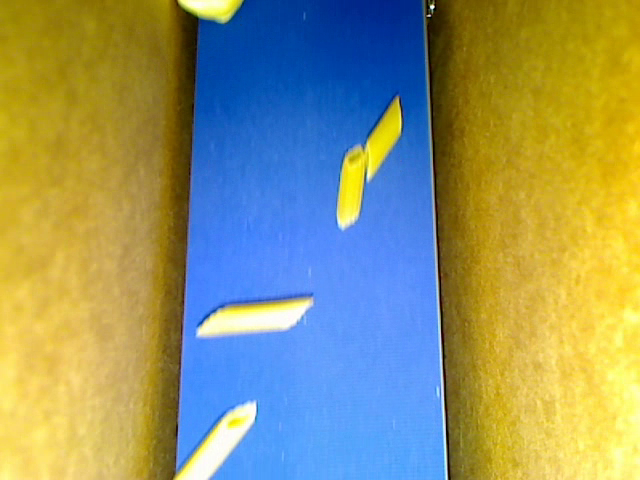penne: (174, 401, 256, 479), (195, 298, 312, 336), (363, 95, 401, 182), (335, 143, 364, 230)
tortellini: (175, 1, 243, 24)
